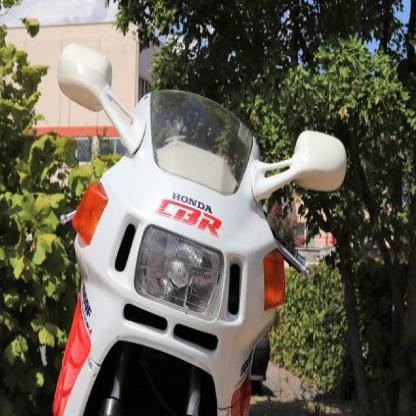Motorcycle: (44, 41, 350, 415)
